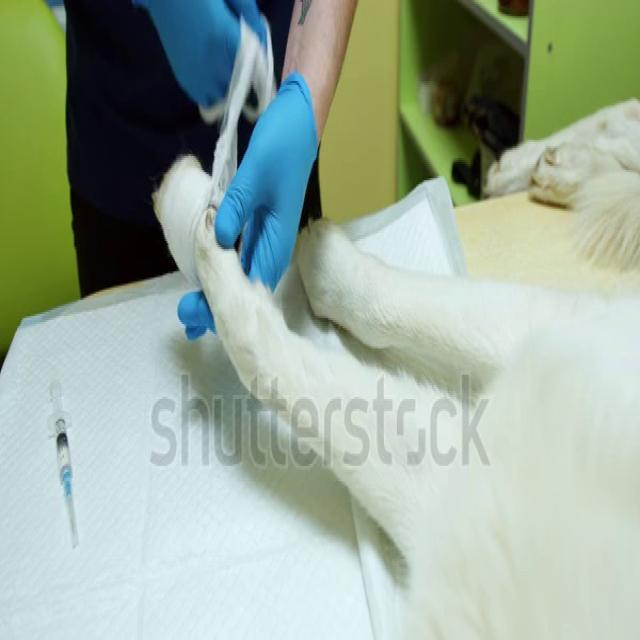injured-animals: (101, 91, 422, 488)
